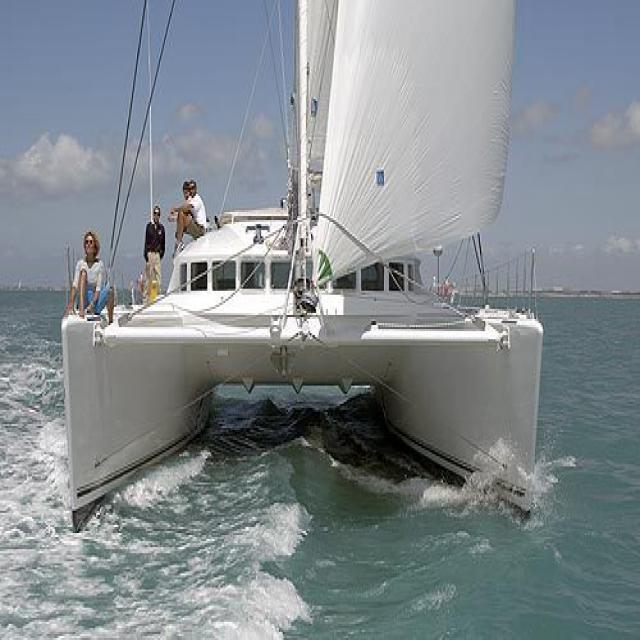Ship: (25, 3, 562, 536)
